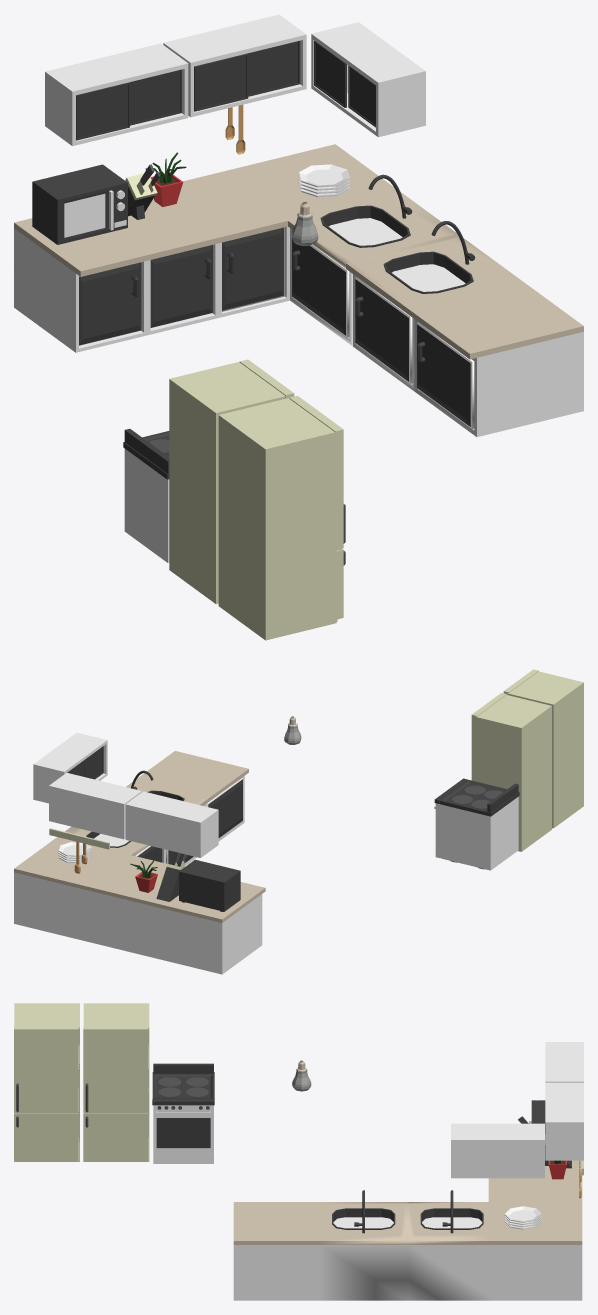
File: chufang.fbx
The picture shows the model from 3 angles, top to bottom: view 1: azimuth 30°, elevation 25°; view 2: azimuth 150°, elevation 25°; view 3: azimuth 270°, elevation 25°; orthographic projection. The views are drawn at different scales.
Visible parts, largest first — view 1: kitchen, fridge, fridge.002, 立方体.105, 立方体.086, oven, 立方体.102, kitchen.001, kitchen.003, kitchen.002, kitchen.006, kitchen.005 (+14 smaller); view 2: kitchen, fridge.002, oven, fridge, 立方体.086, 立方体.102, microwave, 立方体.105, kitchen.006, knife block, palte, flower (+3 smaller); view 3: kitchen, fridge.003, fridge.001, oven, 立方体.105, 立方体.102, fridge.002, fridge, 立方体.086, palte, 圆环.057.
Part boxes in pixels (left/top/right/bottom): kitchen: left=14, top=144, right=583, bottom=436; fridge: left=218, top=398, right=337, bottom=640; fridge.002: left=169, top=361, right=285, bottom=604; 立方体.105: left=311, top=22, right=425, bottom=137; 立方体.086: left=45, top=43, right=188, bottom=146; oven: left=123, top=428, right=169, bottom=562; 立方体.102: left=163, top=14, right=306, bottom=117; kitchen.001: left=222, top=227, right=284, bottom=311; kitchen.003: left=79, top=262, right=141, bottom=345; kitchen.002: left=150, top=245, right=212, bottom=327; kitchen.006: left=417, top=321, right=474, bottom=428; kitchen.005: left=355, top=276, right=412, bottom=383; kitchen: left=14, top=751, right=265, bottom=974; fridge.002: left=474, top=695, right=551, bottom=851; oven: left=434, top=778, right=519, bottom=870; fridge: left=507, top=671, right=583, bottom=828; 立方体.086: left=125, top=791, right=218, bottom=857; 立方体.102: left=49, top=773, right=141, bottom=839; microwave: left=179, top=861, right=238, bottom=911; 立方体.105: left=33, top=732, right=107, bottom=803; kitchen.006: left=206, top=777, right=242, bottom=838; knife block: left=156, top=864, right=182, bottom=901; palte: left=58, top=842, right=91, bottom=863; flower: left=130, top=860, right=157, bottom=892; kitchen: left=233, top=1160, right=582, bottom=1300; fridge.003: left=83, top=1026, right=148, bottom=1161; fridge.001: left=14, top=1026, right=78, bottom=1161; oven: left=152, top=1063, right=214, bottom=1163; 立方体.105: left=451, top=1123, right=544, bottom=1178; 立方体.102: left=545, top=1082, right=583, bottom=1160; fridge.002: left=83, top=1003, right=149, bottom=1161; fridge: left=14, top=1003, right=79, bottom=1161; 立方体.086: left=545, top=1042, right=583, bottom=1082; palte: left=504, top=1206, right=541, bottom=1229; 圆环.057: left=292, top=1060, right=311, bottom=1091.
Size of the model in its own units: 1272 by 586 by 1885.
11 materials, 1 textured.
